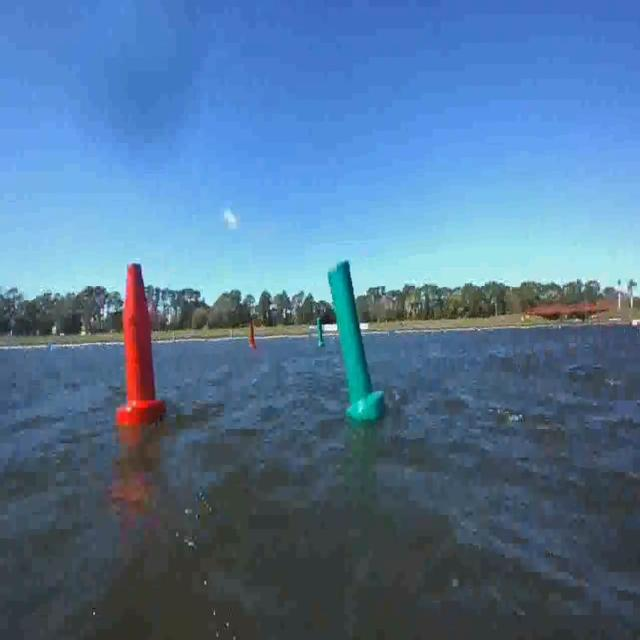green-column-buoy: (326, 260, 383, 423), (316, 317, 326, 347)
red-column-buoy: (117, 257, 164, 426), (248, 322, 257, 348)
